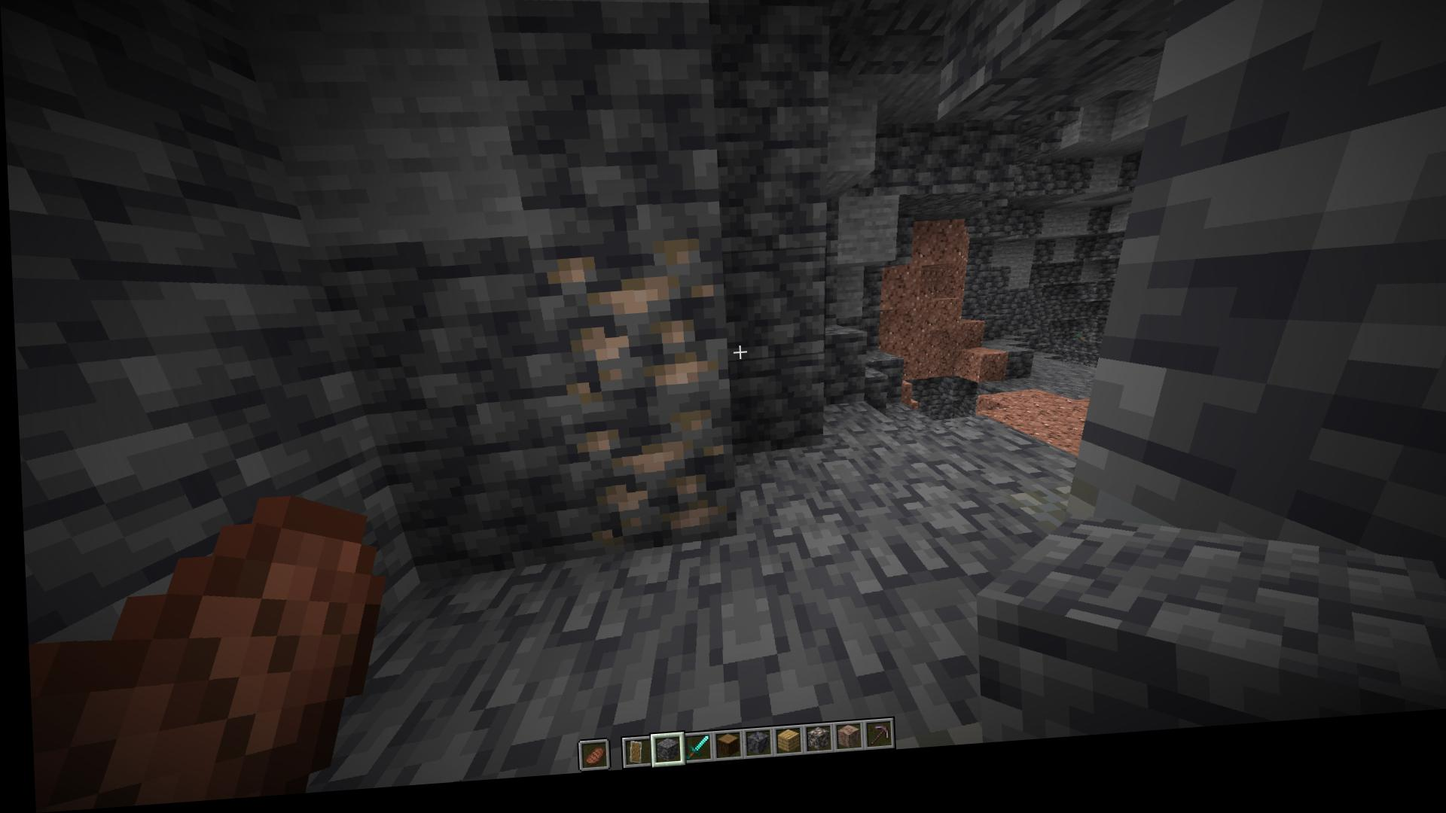iron ore: (531, 241, 719, 414), (570, 417, 731, 569)
